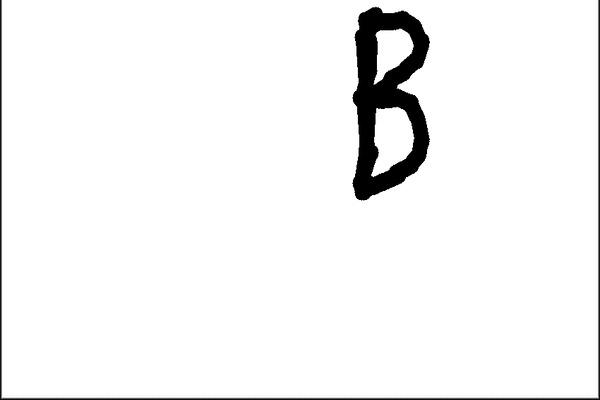B: (341, 2, 437, 207)
